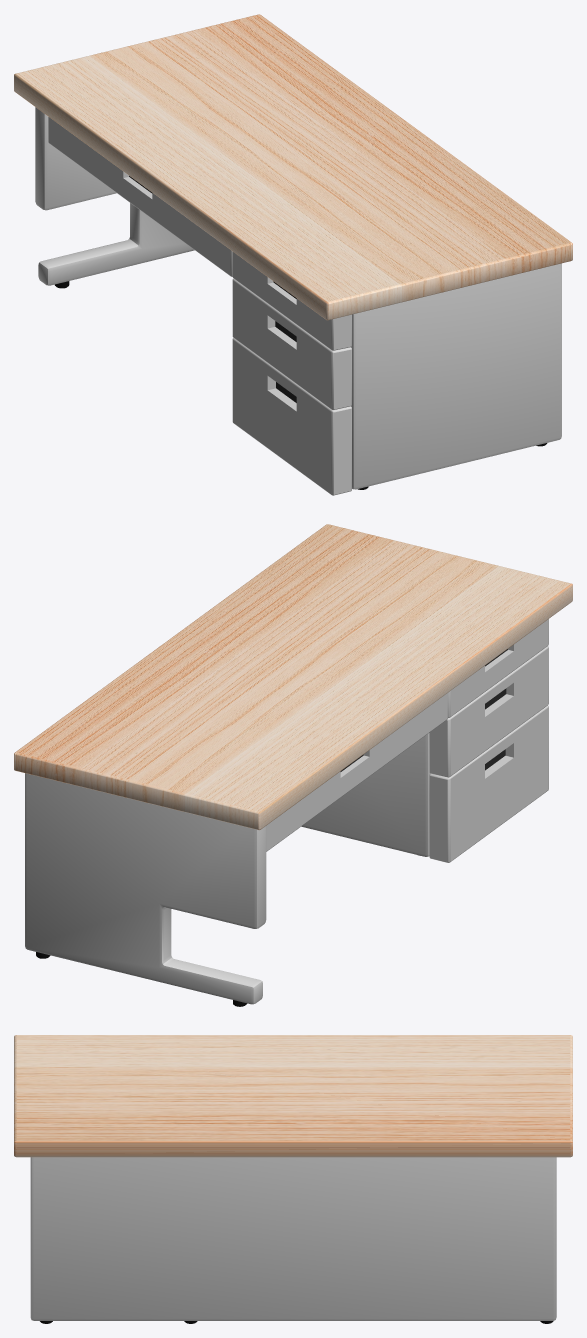
Rendered from DESK.fbx.
The picture shows the model from 3 angles, top to bottom: view 1: azimuth 30°, elevation 25°; view 2: azimuth 150°, elevation 25°; view 3: azimuth 270°, elevation 25°; orthographic projection. The views are drawn at different scales.
Parts seen in each view (by area): view 1: Object001, Box002, Object004, Object016, Object014; view 2: Object001, Box002, Object004, Object016, Object014; view 3: Box002, Object001, Object015, Object014.
Part boxes in pixels (bbox=[...]): Object001: bbox=[16, 14, 570, 301]; Box002: bbox=[35, 107, 561, 489]; Object004: bbox=[48, 117, 351, 495]; Object016: bbox=[14, 74, 328, 320]; Object014: bbox=[15, 14, 572, 320]; Object001: bbox=[16, 524, 570, 811]; Box002: bbox=[25, 733, 430, 1004]; Object004: bbox=[266, 619, 548, 862]; Object016: bbox=[258, 583, 572, 830]; Object014: bbox=[14, 524, 570, 829]; Box002: bbox=[30, 1157, 556, 1320]; Object001: bbox=[16, 1035, 570, 1140]; Object015: bbox=[14, 1141, 572, 1157]; Object014: bbox=[14, 1035, 572, 1141].
Size of the model in its own units: 83.14 by 67.64 by 183.
